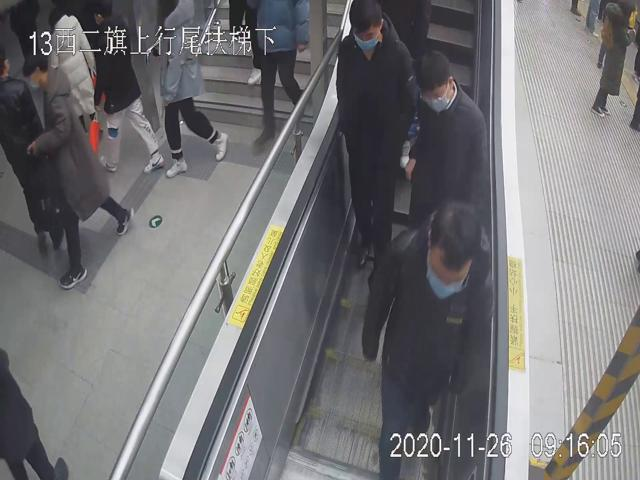person: (363, 202, 490, 480), (18, 48, 134, 291), (336, 0, 415, 292), (406, 46, 490, 246)
